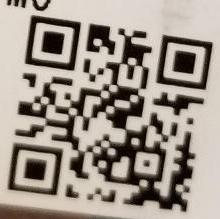qrcode: (8, 15, 214, 214)
